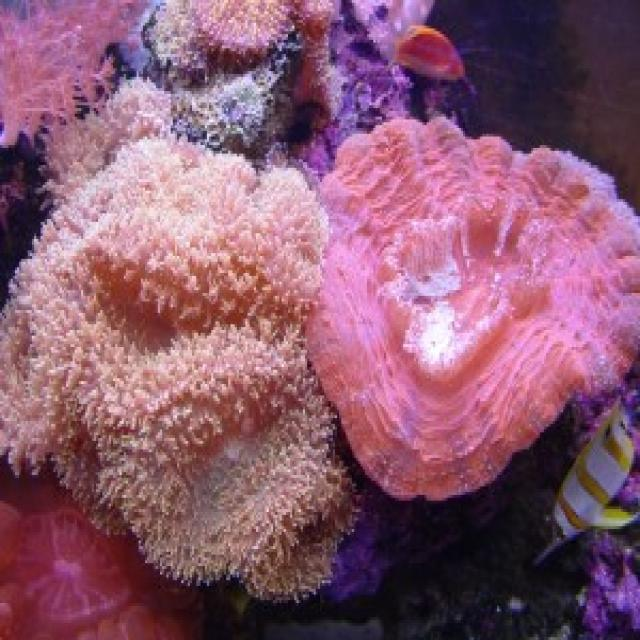Healthy: (1, 135, 353, 595), (308, 118, 639, 499), (48, 58, 287, 197), (1, 1, 148, 143), (146, 1, 298, 89)
